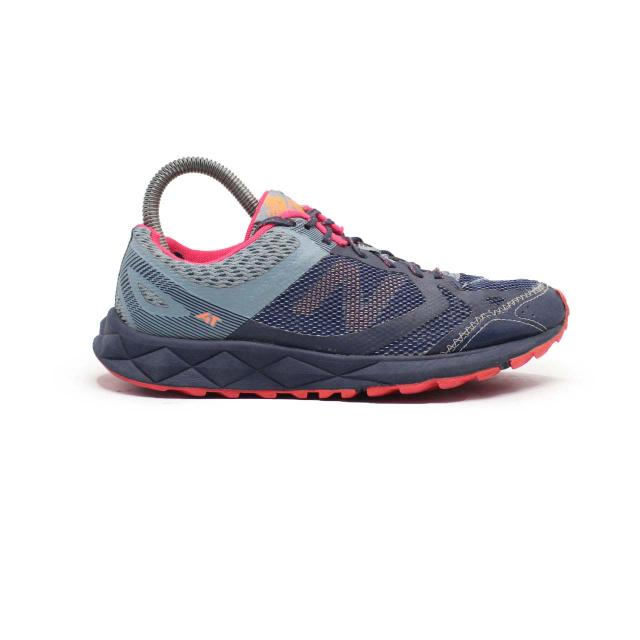heel: (110, 228, 210, 340)
midsole: (92, 290, 571, 401)
uppersole: (210, 194, 560, 356)
